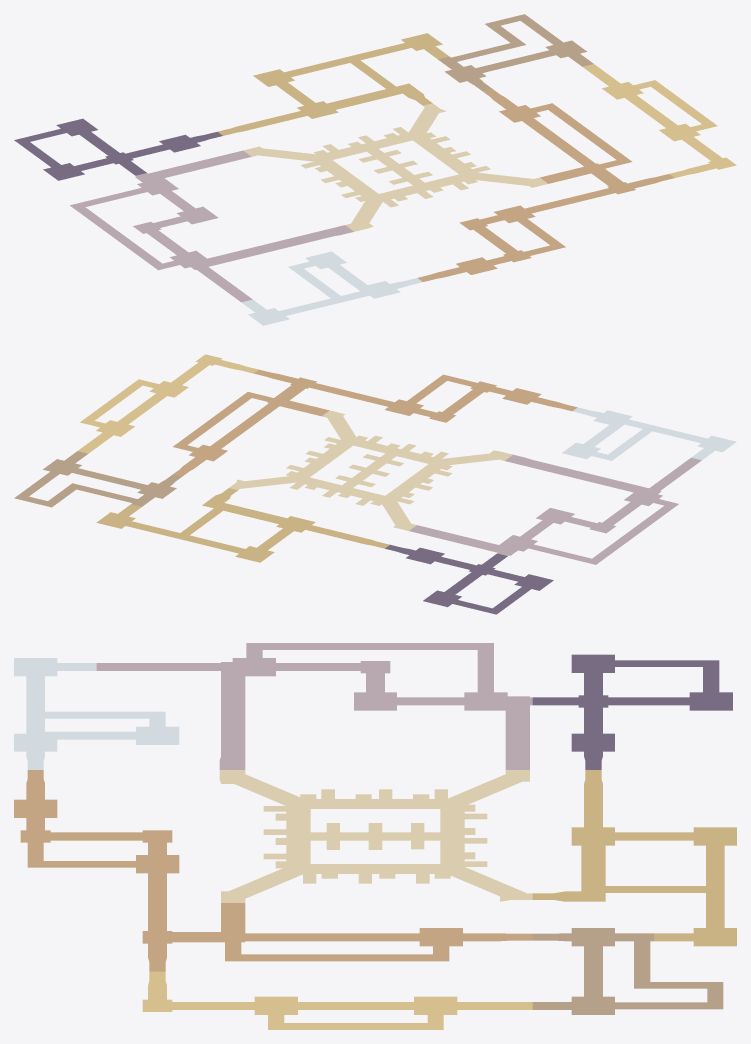
Rendered from CompactRoadsStudioImport.glb.
The picture shows the model from 3 angles, top to bottom: view 1: azimuth 30°, elevation 25°; view 2: azimuth 150°, elevation 25°; view 3: azimuth 270°, elevation 25°; orthographic projection. The views are drawn at different scales.
Visible parts, largest first — view 1: Path_Camp_1_1, Path_Jungle_1_2, Path_Swamp_0_2, Path_Forest_1_0, Path_Arctic_2_0, Path_GlitchZone_2_2, Path_Beach_0_1, Path_Forest_0_1, Path_Forest_0_0, Path_Volcano_3_1, Path_Volcano_2_1, Path_Volcano_3_0 (+7 smaller); view 2: Path_Camp_1_1, Path_Jungle_1_2, Path_Swamp_0_2, Path_Forest_1_0, Path_Arctic_2_0, Path_GlitchZone_2_2, Path_Beach_0_1, Path_Forest_0_1, Path_Forest_0_0, Path_Volcano_3_1, Path_Volcano_2_1, Path_Volcano_3_0 (+7 smaller); view 3: Path_Camp_1_1, Path_Jungle_1_2, Path_Swamp_0_2, Path_Forest_1_0, Path_Arctic_2_0, Path_GlitchZone_2_2, Path_Beach_0_1, Path_Forest_0_1, Path_Forest_0_0, Path_Volcano_3_1, Path_Volcano_2_1, Path_Volcano_3_0 (+10 smaller).
Boxes of the visible parts, x1,y1,x2,y2 form: Path_Camp_1_1: [309, 109, 508, 205]; Path_Jungle_1_2: [253, 52, 432, 124]; Path_Swamp_0_2: [438, 14, 593, 90]; Path_Forest_1_0: [459, 198, 573, 274]; Path_Arctic_2_0: [286, 251, 422, 314]; Path_GlitchZone_2_2: [44, 118, 222, 175]; Path_Beach_0_1: [590, 70, 716, 137]; Path_Forest_0_1: [490, 94, 615, 159]; Path_Forest_0_0: [540, 150, 674, 202]; Path_Volcano_3_1: [70, 192, 197, 263]; Path_Volcano_2_1: [125, 156, 251, 225]; Path_Volcano_3_0: [150, 252, 252, 302]; Path_Camp_1_1: [236, 427, 450, 506]; Path_Jungle_1_2: [160, 488, 346, 562]; Path_Swamp_0_2: [14, 451, 181, 507]; Path_Forest_1_0: [348, 374, 538, 422]; Path_Arctic_2_0: [562, 407, 700, 460]; Path_GlitchZone_2_2: [385, 544, 513, 607]; Path_Beach_0_1: [80, 380, 182, 447]; Path_Forest_0_1: [173, 403, 270, 470]; Path_Forest_0_0: [233, 369, 353, 416]; Path_Volcano_3_1: [544, 499, 670, 564]; Path_Volcano_2_1: [416, 508, 586, 551]; Path_Volcano_3_0: [626, 457, 701, 509]; Path_Camp_1_1: [270, 801, 509, 901]; Path_Jungle_1_2: [532, 801, 736, 902]; Path_Swamp_0_2: [532, 928, 723, 1014]; Path_Forest_1_0: [14, 801, 179, 902]; Path_Arctic_2_0: [14, 681, 179, 769]; Path_GlitchZone_2_2: [532, 681, 732, 769]; Path_Beach_0_1: [270, 996, 509, 1029]; Path_Forest_0_1: [270, 928, 509, 961]; Path_Forest_0_0: [142, 903, 270, 971]; Path_Volcano_3_1: [270, 643, 493, 680]; Path_Volcano_2_1: [354, 681, 509, 769]; Path_Volcano_3_0: [96, 643, 270, 680].
Bounding box in the file's own units: 1352 × 0 × 1068.
